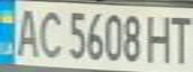0: (103, 10, 124, 63)
5: (63, 7, 87, 61)
6: (84, 8, 106, 62)
8: (121, 11, 148, 63)
A: (9, 5, 42, 57)
C: (33, 6, 66, 60)
H: (142, 11, 178, 64)
T: (166, 11, 193, 64)
